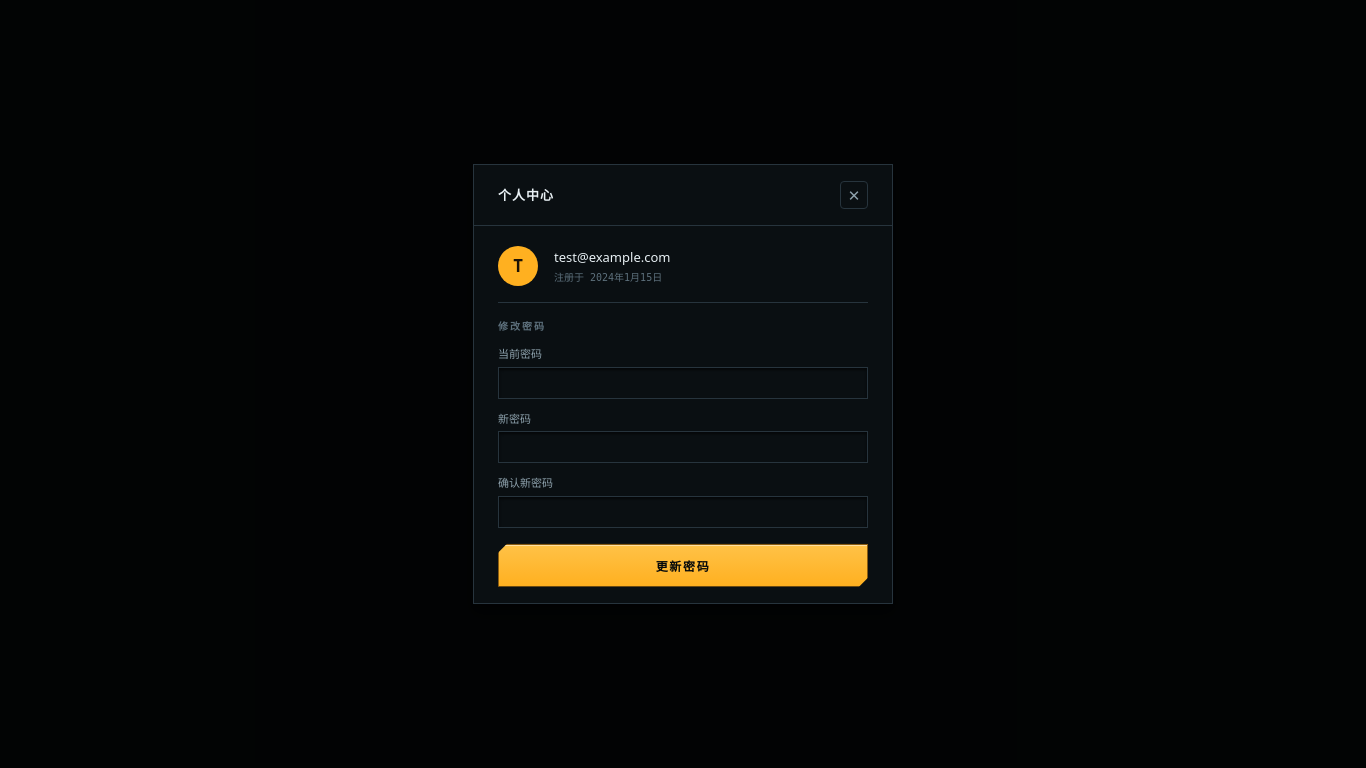
Scenario: AccountDialog › 密码一致性验证 › 两次新密码不一致时显示错误
Type "oldpass" into the password field labelled "当前密码" at (683, 383), box [498,367,868,399]
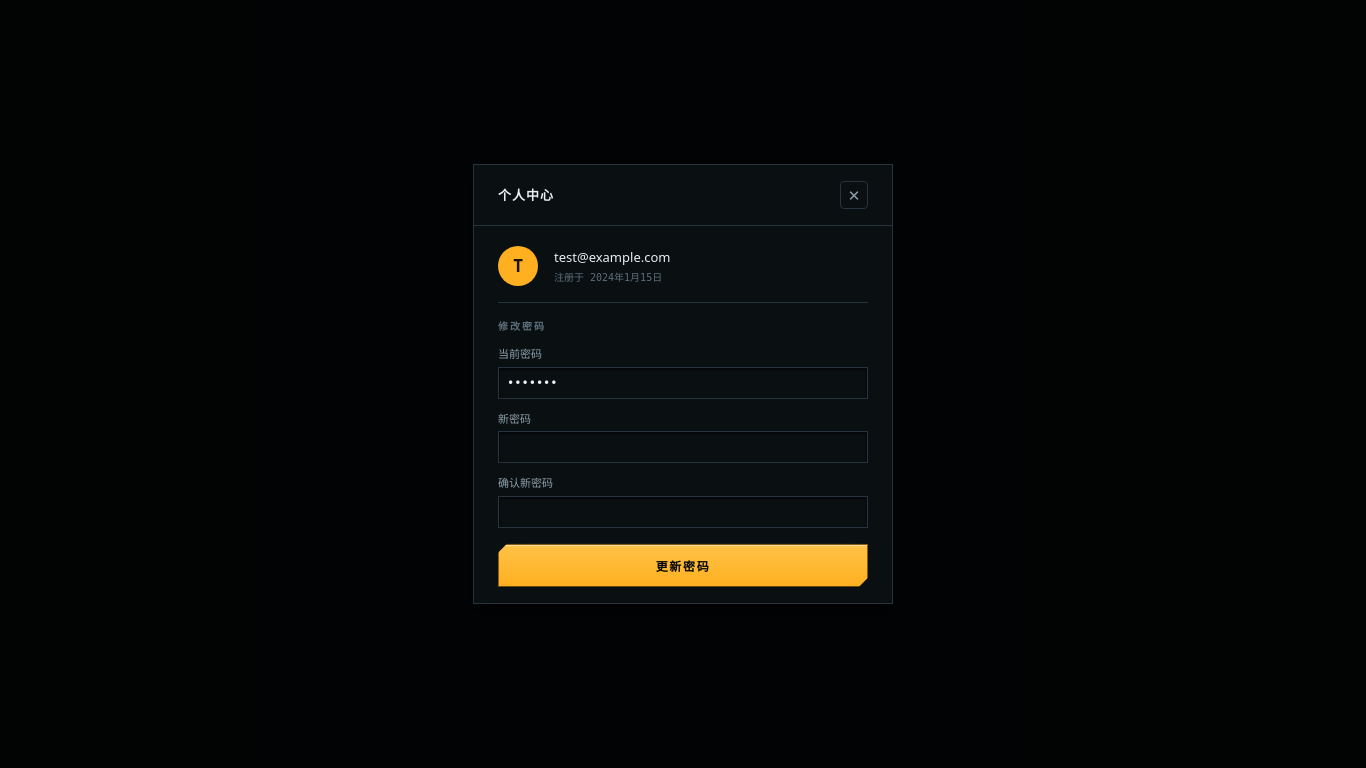
Type "newpass1" into the password field labelled "新密码" at (683, 447), box [498,431,868,463]
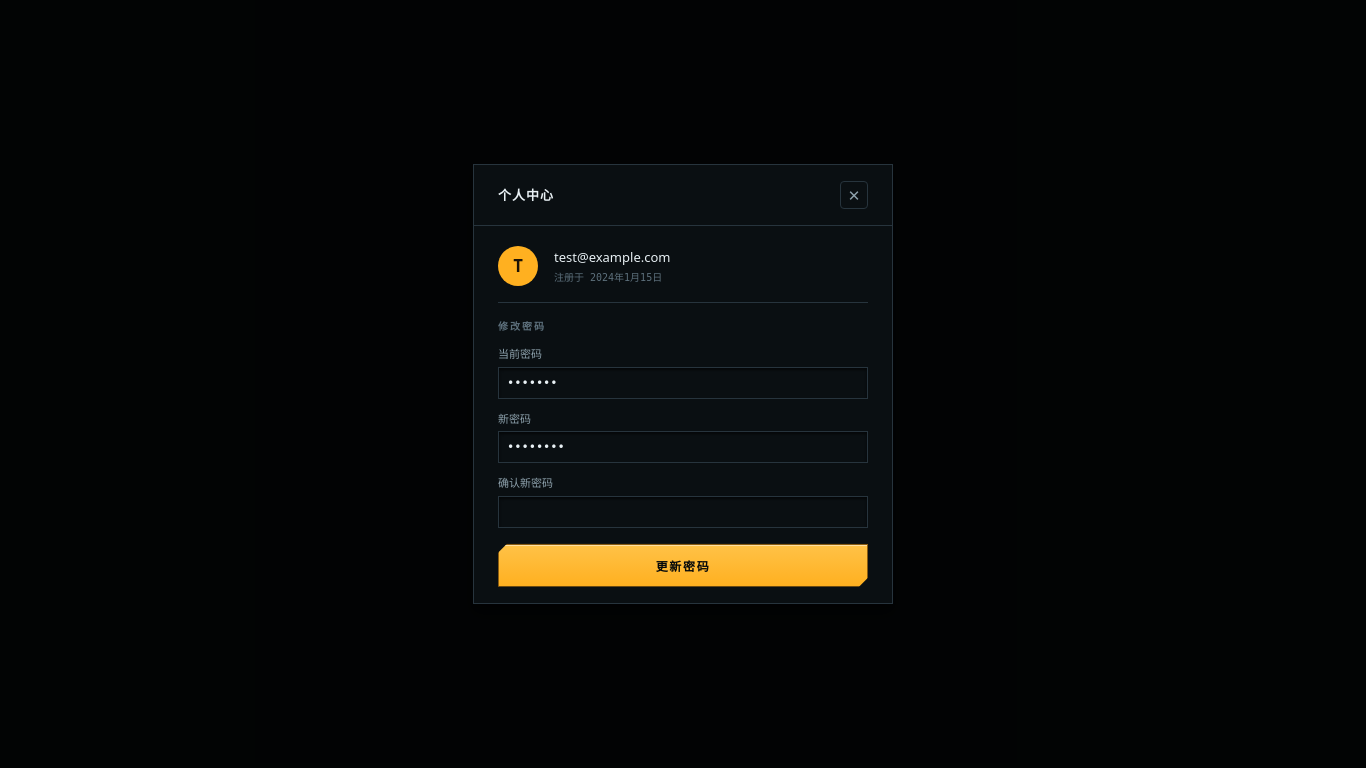
Type "newpass2" into the password field labelled "确认新密码" at (683, 512), box [498,496,868,528]
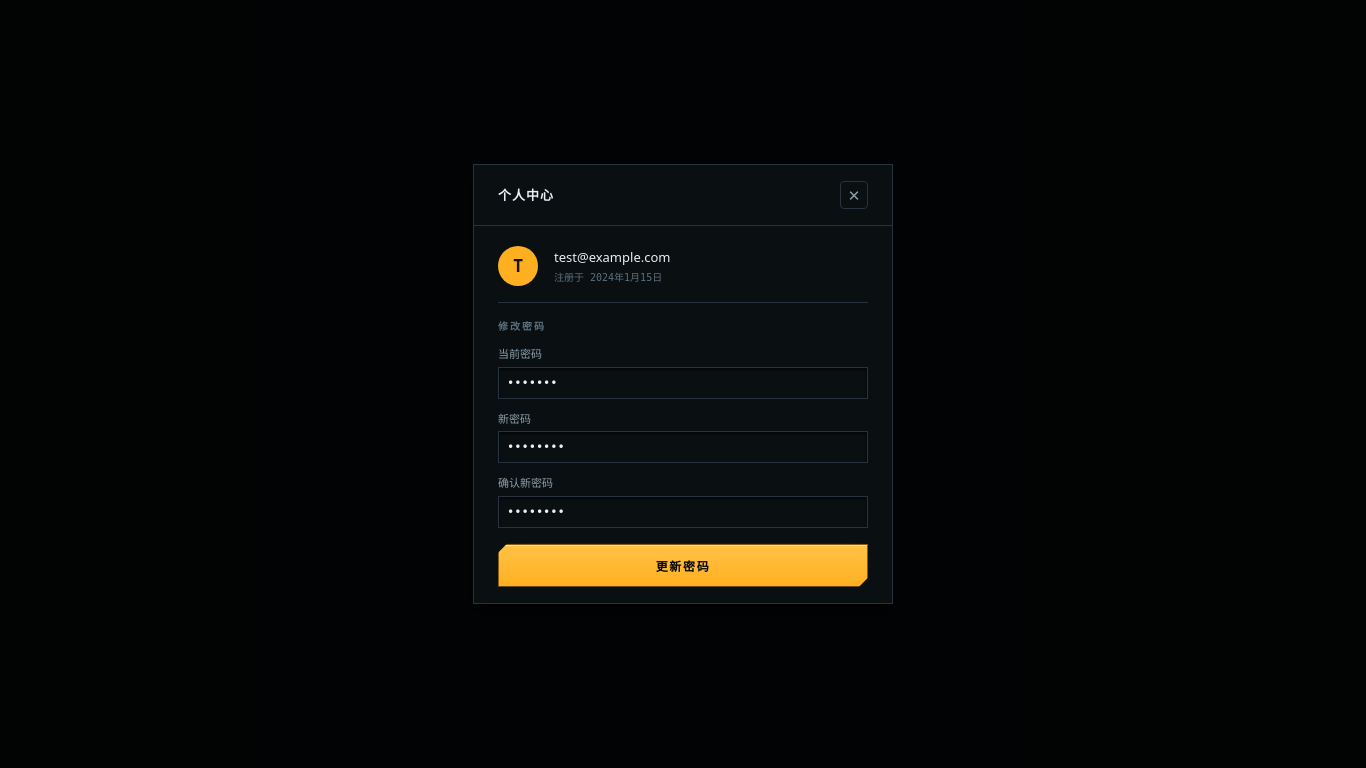
Click the button "更新密码" at (683, 565), box [498,544,868,587]
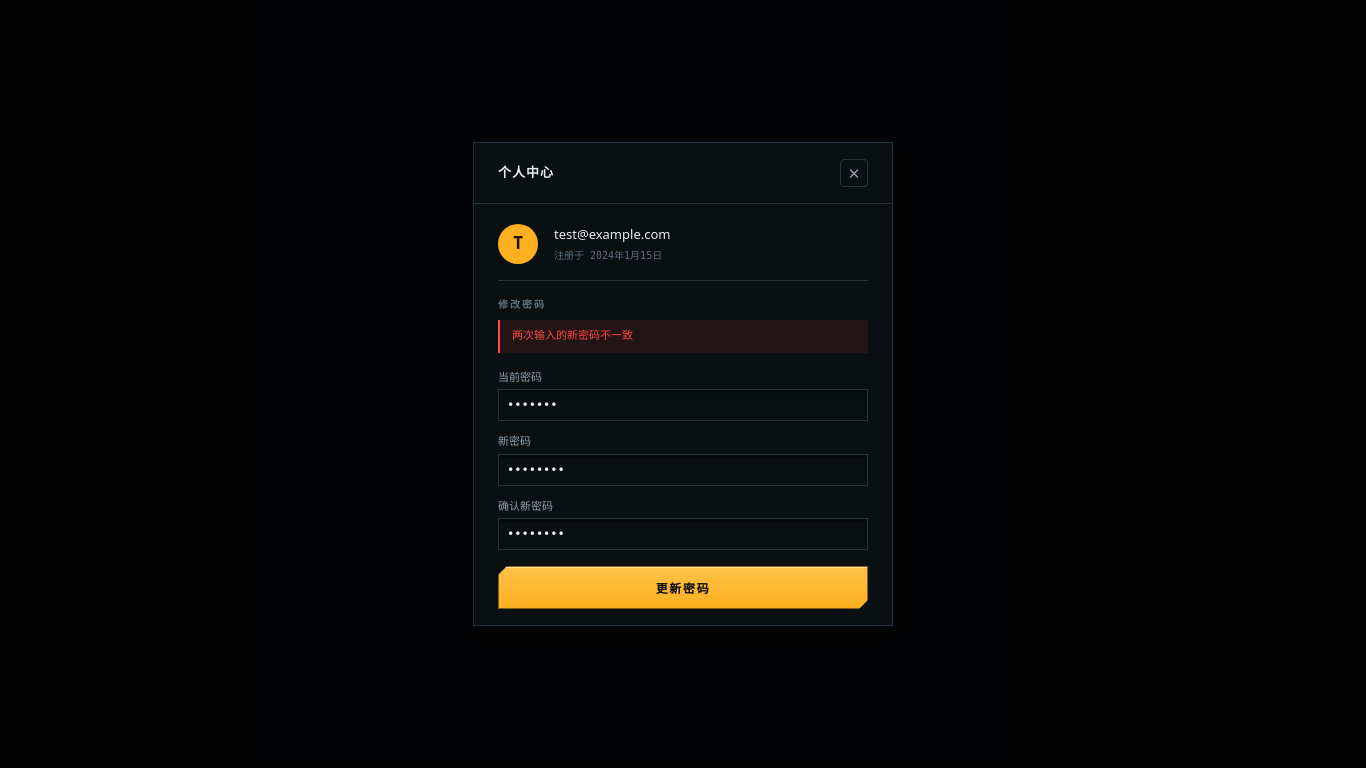
Check: the text "两次输入的新密码不一致" is shown, box [498,320,868,352]
